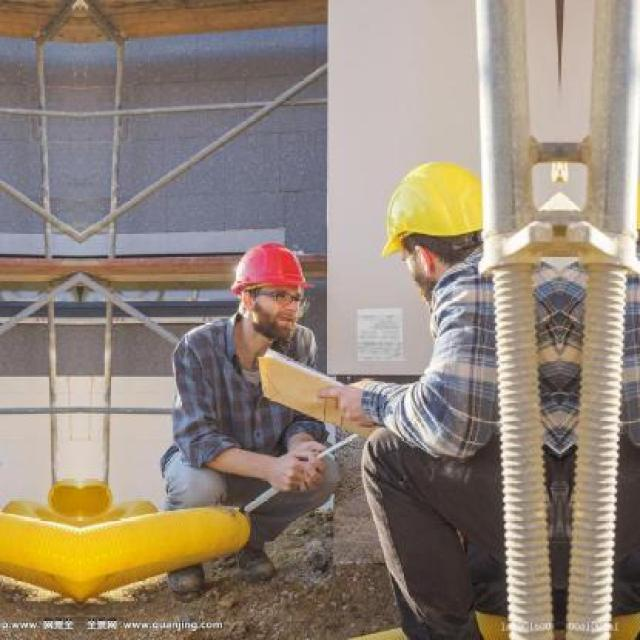helmet: (375, 148, 493, 304), (221, 236, 317, 349)
